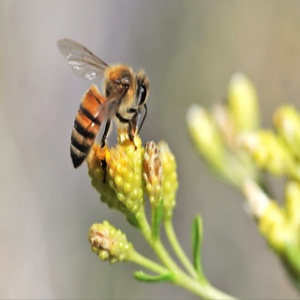bee: (55, 35, 152, 179)
